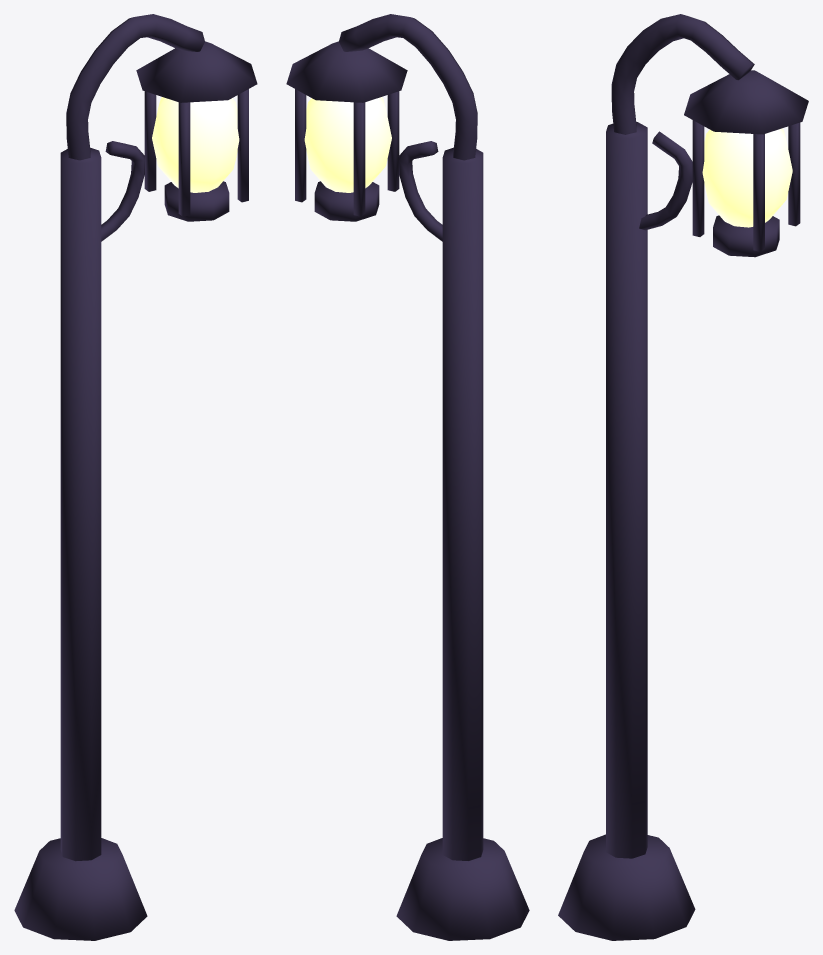
File: lantern.glb
3 views of the same model, side by side, from view 1: azimuth 30°, elevation 25°; view 2: azimuth 150°, elevation 25°; view 3: azimuth 330°, elevation 25° (orthographic). The views are drawn at different scales.
Parts seen in each view (by area): view 1: lantern:mesh; view 2: lantern:mesh; view 3: lantern:mesh.
Boxes of the visible parts, x1,y1,x2,y2 form: lantern:mesh: (14, 14, 257, 940); lantern:mesh: (286, 14, 529, 940); lantern:mesh: (558, 14, 808, 940).
Bounding box in the file's own units: 0.6301 × 2.33 × 0.3043.
